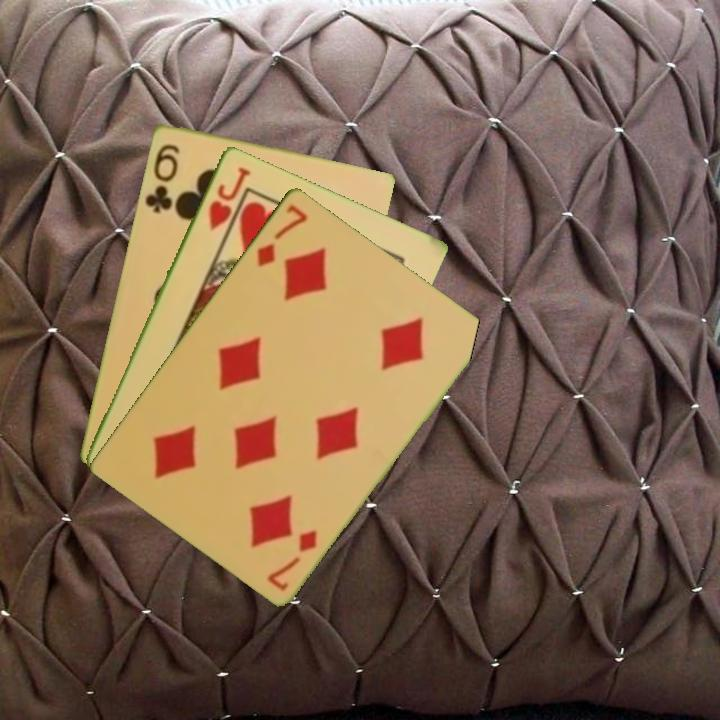6c: (141, 140, 182, 216)
7d: (253, 200, 311, 270), (264, 525, 320, 594)
Jh: (204, 162, 253, 233)
